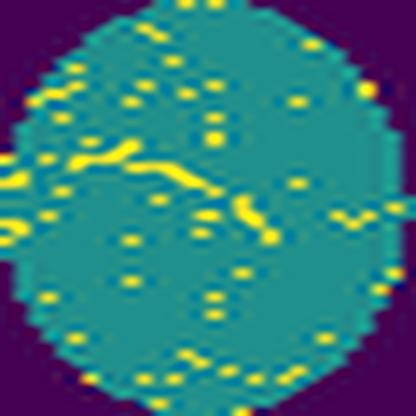Loc: (70, 137, 228, 195), (232, 195, 279, 250)
